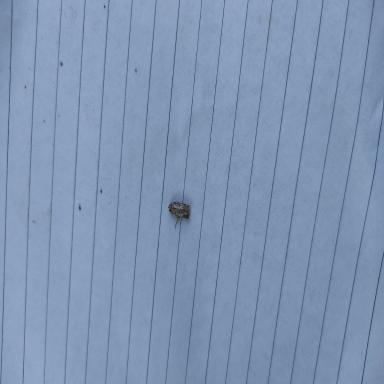pbw: (168, 201, 191, 229)
